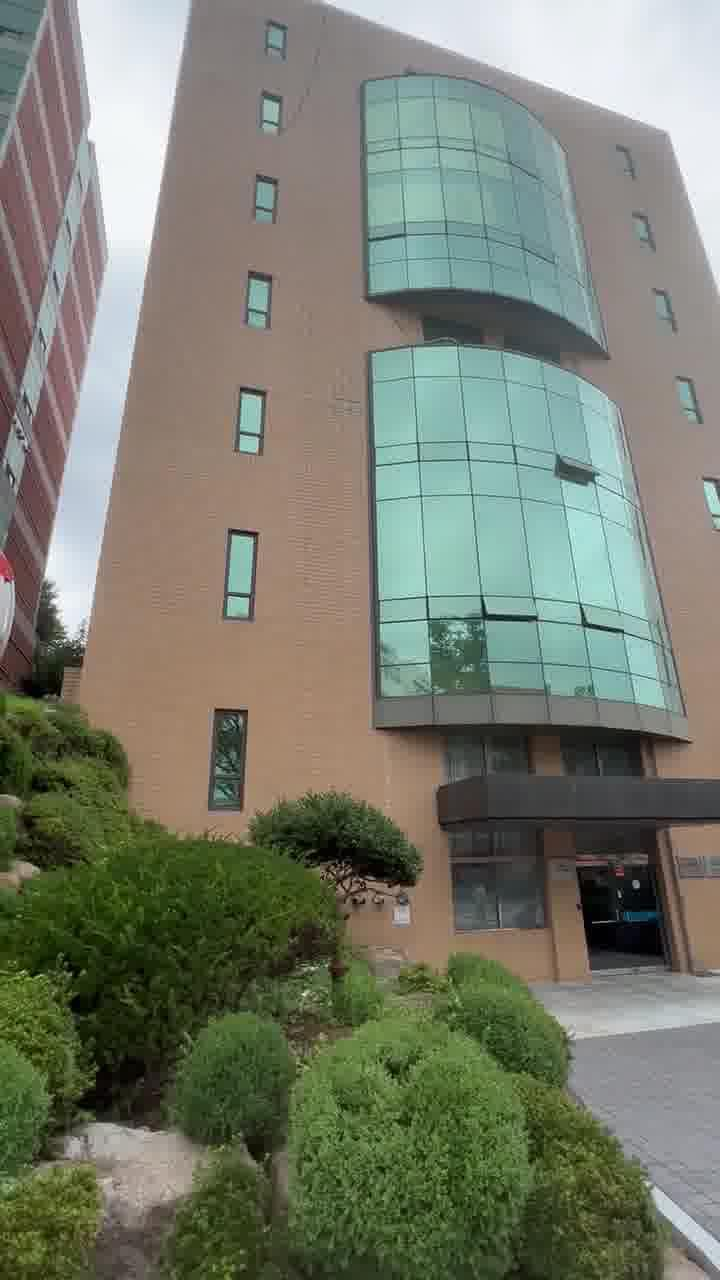building: (128, 34, 720, 810)
